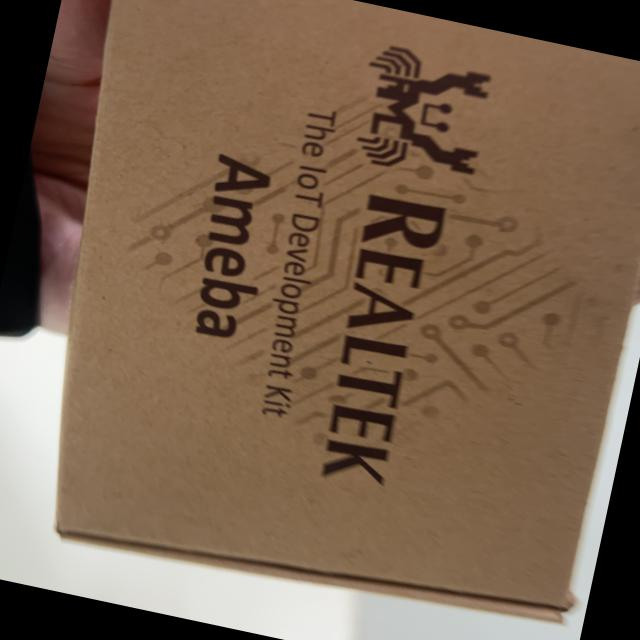box: (10, 0, 640, 640), (7, 531, 42, 554)
